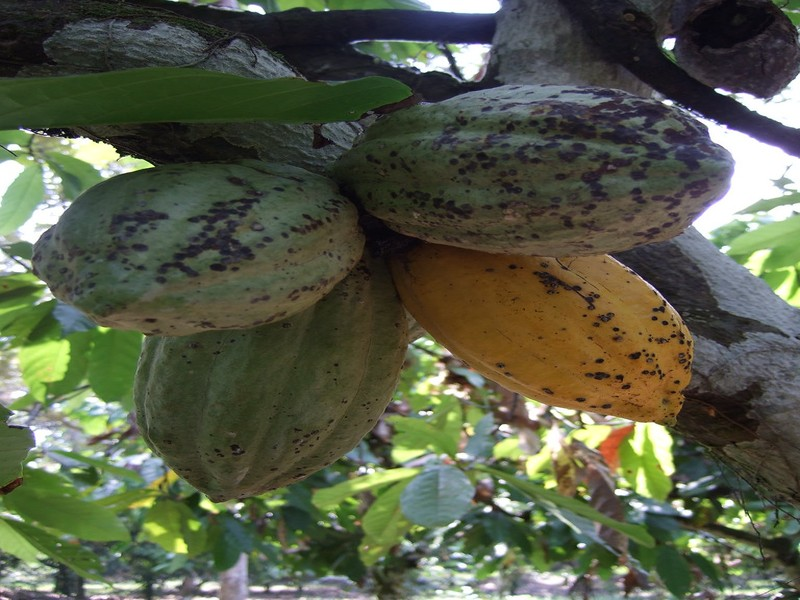Cacaopod: (353, 83, 735, 250)
